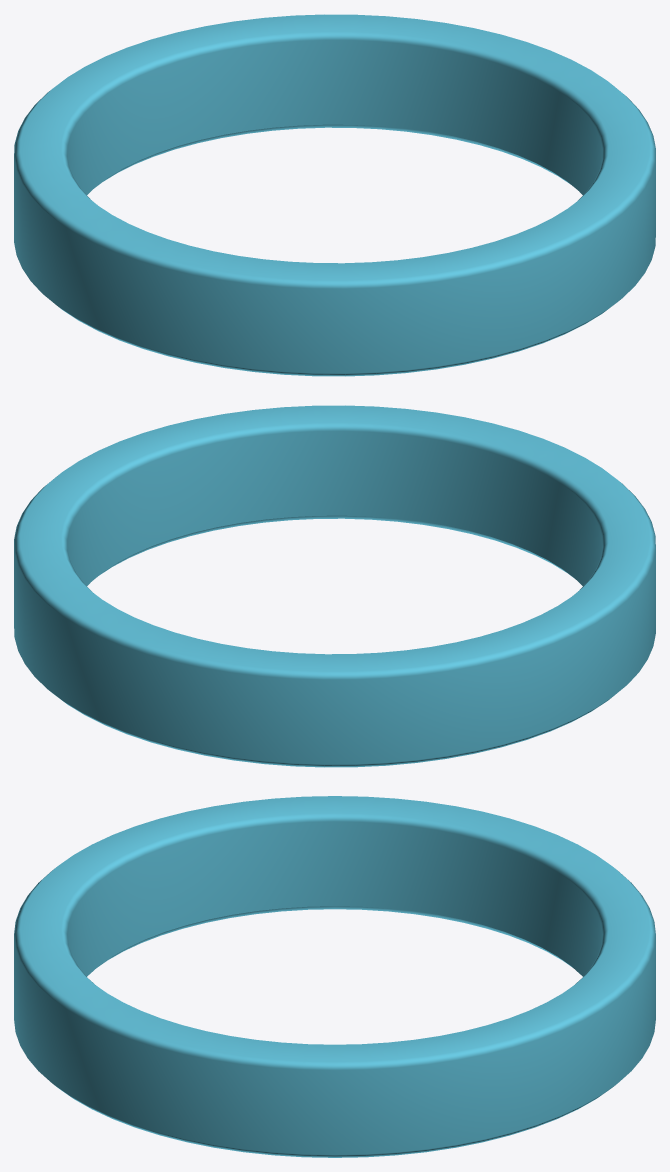
3 views of the same model, one above another, from view 1: azimuth 30°, elevation 25°; view 2: azimuth 150°, elevation 25°; view 3: azimuth 270°, elevation 25° (orthographic).
Visible parts, largest first — view 1: seal_body; view 2: seal_body; view 3: seal_body.
Boxes of the visible parts, bbox=[...] form: seal_body: bbox=[14, 14, 655, 376]; seal_body: bbox=[14, 405, 655, 767]; seal_body: bbox=[14, 796, 655, 1157].
Bounding box in the file's own units: 0.06 × 0.0099 × 0.06.
